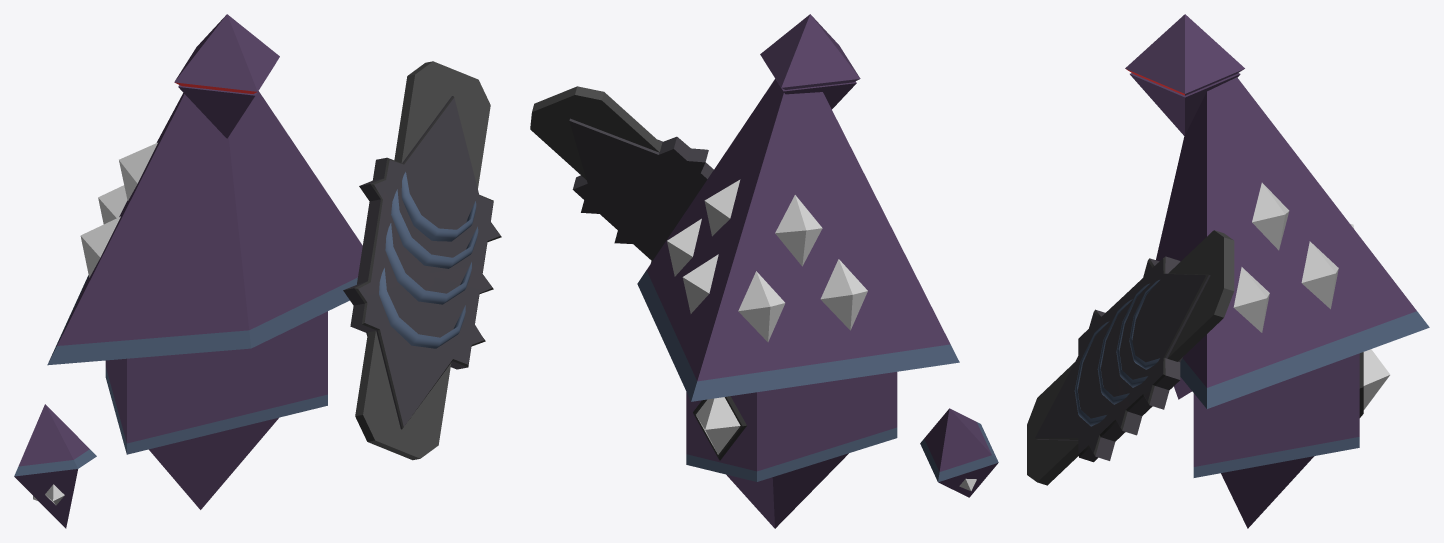
The model's file is enemy_bulwark_asset.fbx.
The picture shows the model from 3 angles, left to right: view 1: azimuth 30°, elevation 25°; view 2: azimuth 150°, elevation 25°; view 3: azimuth 270°, elevation 25°; orthographic projection. The views are drawn at different scales.
Visible parts, largest first — view 1: enemy_bulwark; view 2: enemy_bulwark; view 3: enemy_bulwark.
Part boxes in pixels (<box>): enemy_bulwark: <box>14,14,501,528</box>; enemy_bulwark: <box>530,14,998,528</box>; enemy_bulwark: <box>1027,14,1429,528</box>.
Bounding box in the file's own units: 7.6 × 7.81 × 5.57.
